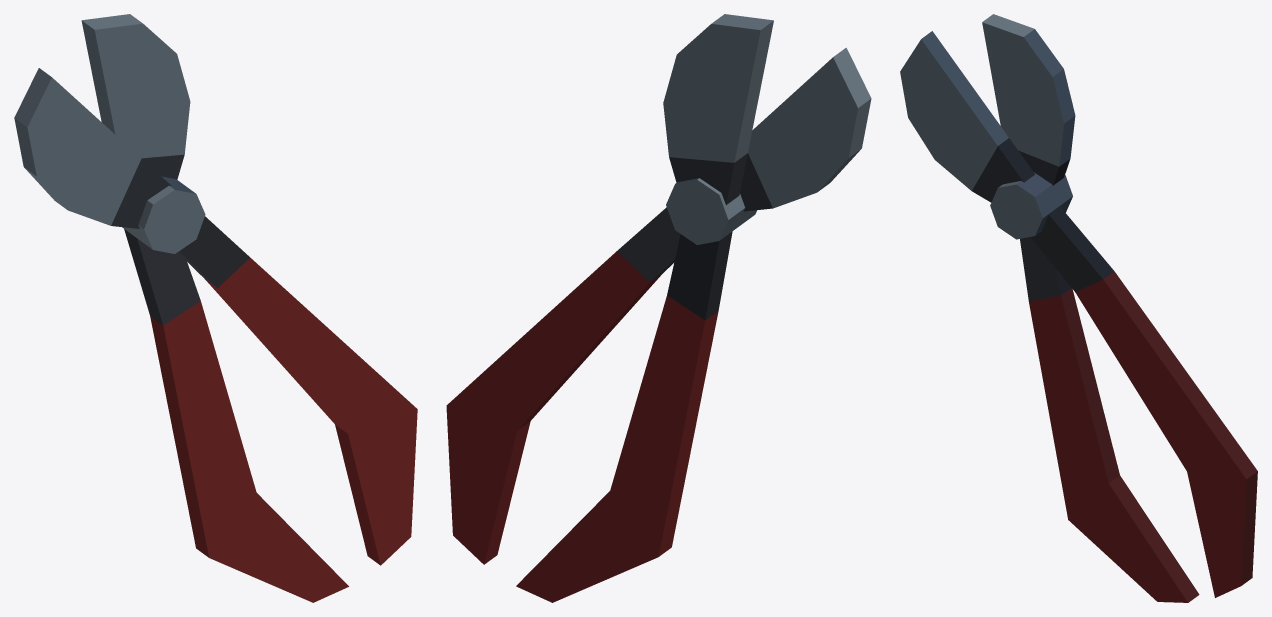
File: pliers.fbx
The picture shows the model from 3 angles, left to right: view 1: azimuth 30°, elevation 25°; view 2: azimuth 150°, elevation 25°; view 3: azimuth 330°, elevation 25°; orthographic projection. The views are drawn at different scales.
Parts seen in each view (by area): view 1: pliers; view 2: pliers; view 3: pliers.
Part boxes in pixels (left/top/right/bottom): pliers: left=14, top=14, right=417, bottom=602; pliers: left=446, top=14, right=871, bottom=602; pliers: left=900, top=14, right=1257, bottom=602.
Size of the model in its own units: 0.2646 by 0.3943 by 0.0409.
